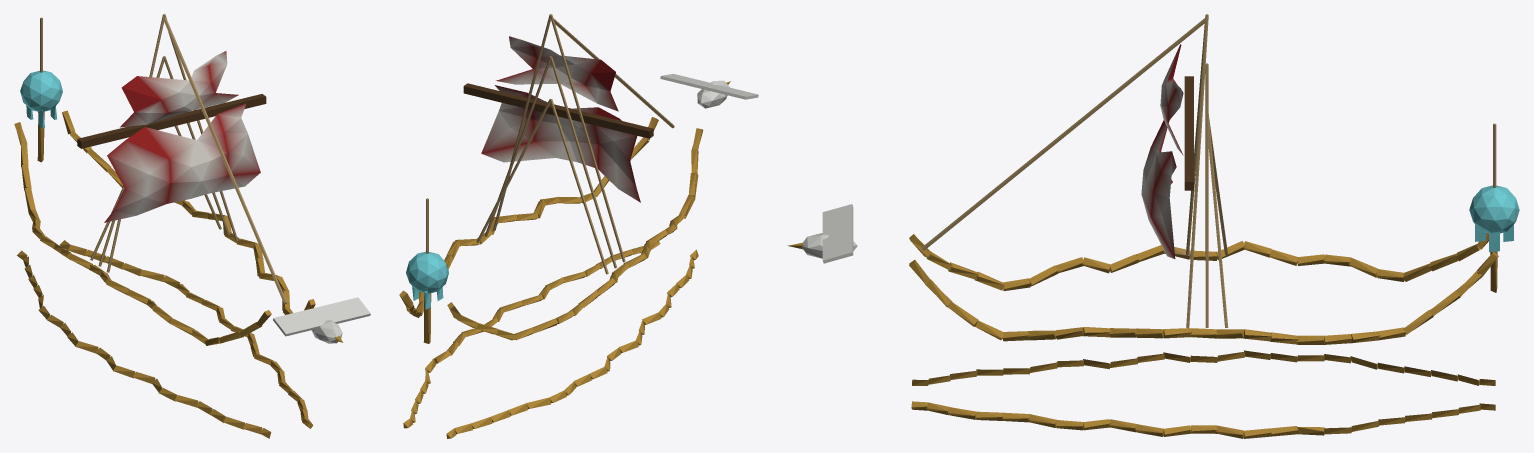
Rendered from upg_skiff_t2_lod1.glb.
3 renders of one model, left to right at view 1: azimuth 30°, elevation 25°; view 2: azimuth 150°, elevation 25°; view 3: azimuth 270°, elevation 25°, orthographic. The views are drawn at different scales.
Parts seen in each view (by area): view 1: geometry_0; view 2: geometry_0; view 3: geometry_0.
Part boxes in pixels (x1,y1,x2,y2): geometry_0: (14,14,370,438); geometry_0: (399,14,758,438); geometry_0: (787,14,1519,438).
Bounding box in the file's own units: 2.78 × 4.7 × 8.13.
